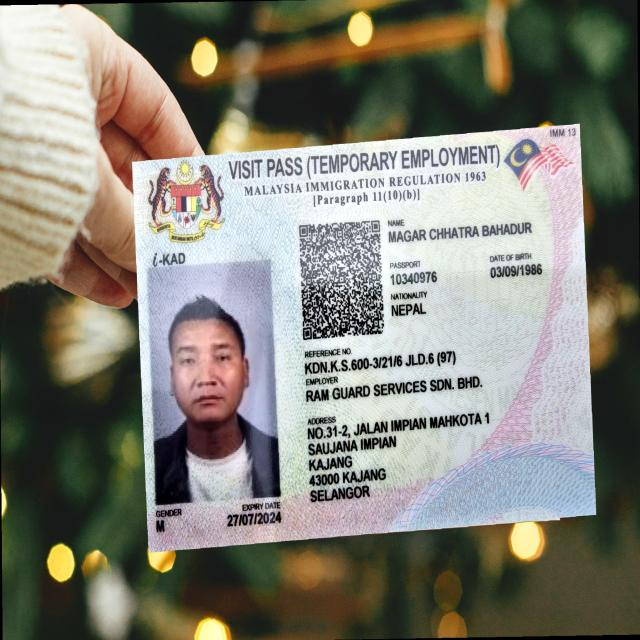ikad-temp: (131, 122, 597, 552)
